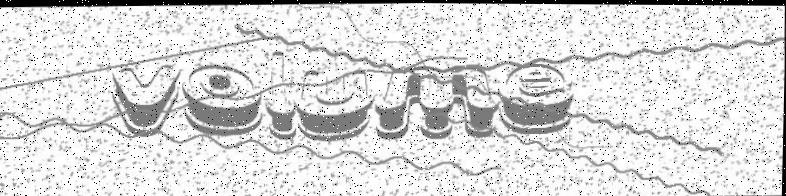e: (497, 55, 577, 134)
l: (265, 46, 300, 143)
m: (375, 57, 503, 139)
o: (176, 57, 267, 140)
u: (294, 60, 376, 143)
v: (105, 62, 183, 139)
